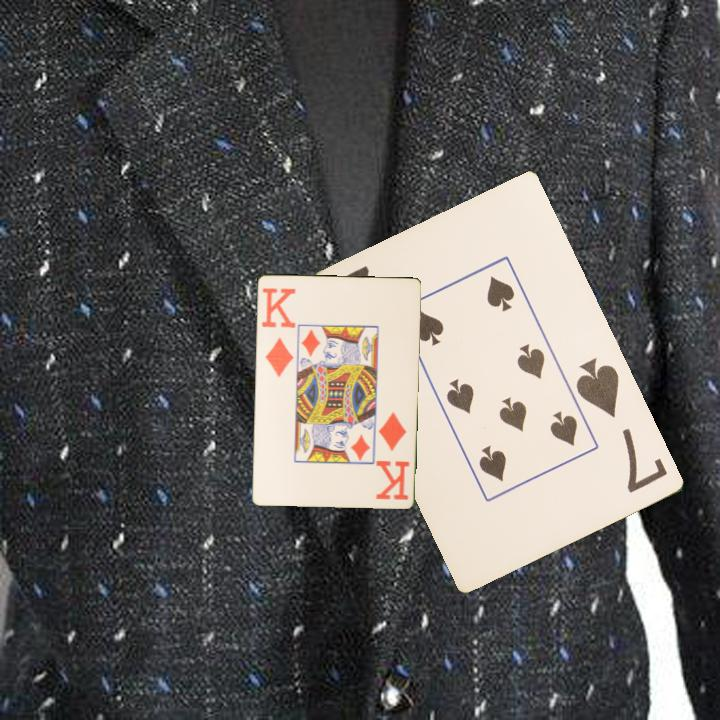7s: (572, 353, 671, 496)
Kd: (258, 284, 298, 379), (373, 408, 412, 502)
